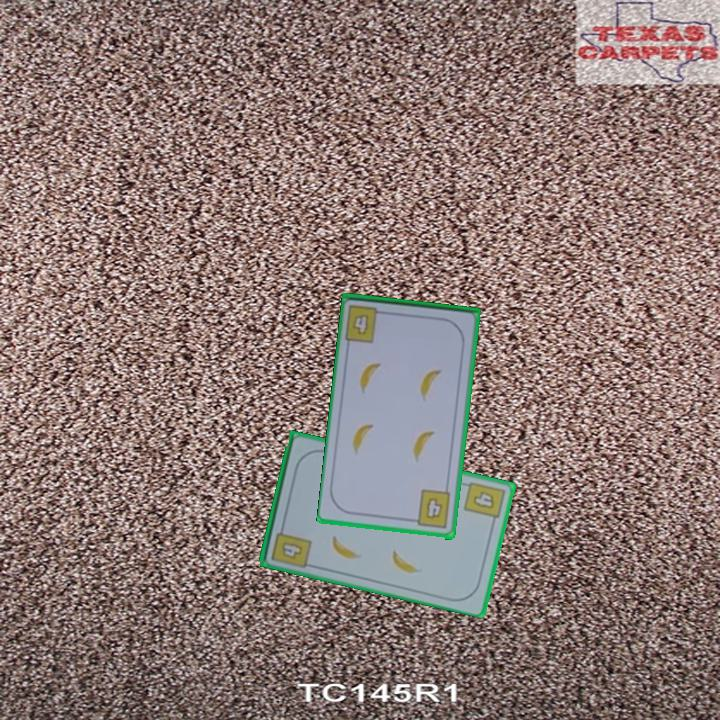4b: (460, 478, 508, 528), (268, 520, 314, 568), (408, 487, 453, 532), (349, 313, 372, 338)
